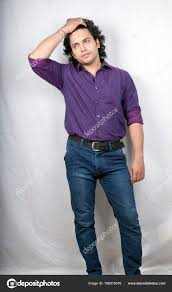Indian_Male: (66, 26, 105, 72)
